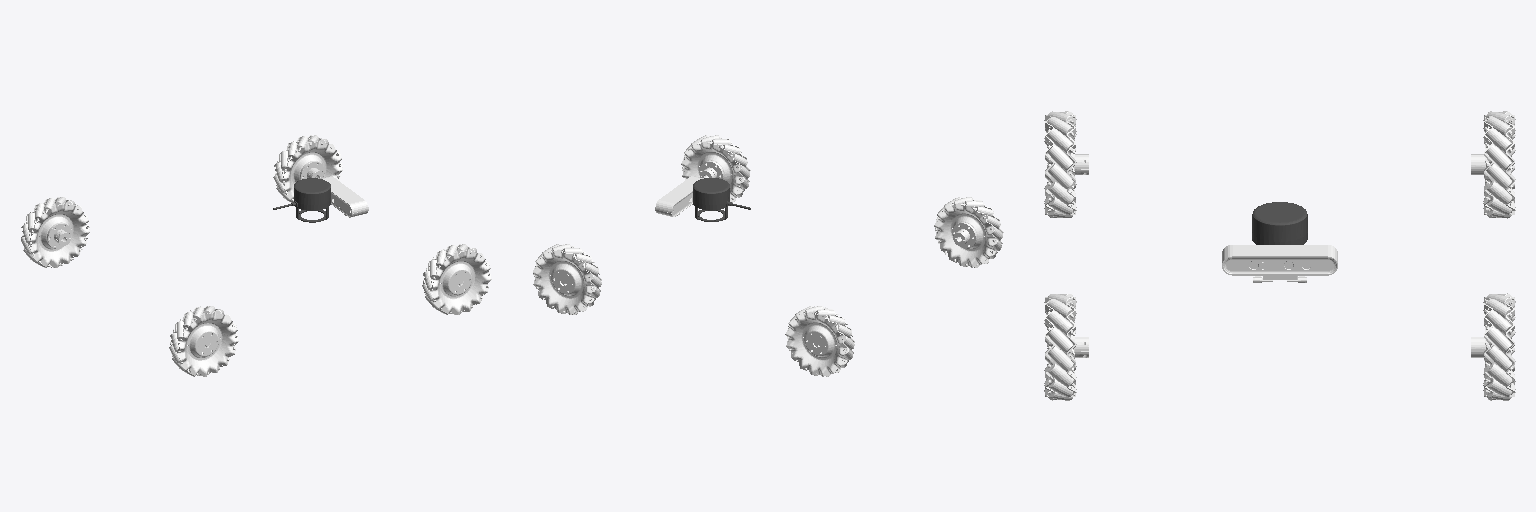
URDF robot description (top_mec_bs_robot):
<?xml version="1.0" encoding="utf-8"?>
<!-- This URDF was automatically created by SolidWorks to URDF Exporter! Originally created by [author] ([email redacted]) 
     Commit Version: 1.6.0-4-g7f85cfe  Build Version: 1.6.7995.38578
     For more information, please see http://wiki.ros.org/sw_urdf_exporter -->
<robot
  name="top_mec_bs_robot">
  <link
    name="base_link">
    <inertial>
      <origin
        xyz="-0.00264136115542805 -0.000478714215745704 0.0465081194028082"
        rpy="0 0 0" />
      <mass
        value="4.86878291717535" />
      <inertia
        ixx="0.037251697324237"
        ixy="-4.62534191163563E-05"
        ixz="2.55824100252923E-08"
        iyy="0.0356401227216898"
        iyz="-5.69404839174868E-07"
        izz="0.0712831173052379" />
    </inertial>
    <visual>
      <origin
        xyz="0 0 0"
        rpy="0 0 0" />
      <geometry>
        <mesh
          filename="package://wheeltec_robot_urdf/meshes/top_mec_bs_robot_meshes/base_link.STL" />
      </geometry>
      <material
        name="">
        <color
          rgba="0.741176470588235 0.901960784313726 0.956862745098039 1" />
      </material>
    </visual>
    <collision>
      <origin
        xyz="0 0 0"
        rpy="0 0 0" />
      <geometry>
        <mesh
          filename="package://wheeltec_robot_urdf/meshes/top_mec_bs_robot_meshes/base_link.STL" />
      </geometry>
    </collision>
  </link>
  <link
    name="lf_wheel_link">
    <inertial>
      <origin
        xyz="1.97034659690232E-05 -0.00238148433606722 -4.49547036794617E-06"
        rpy="0 0 0" />
      <mass
        value="0.241686926461965" />
      <inertia
        ixx="0.000456944123565094"
        ixy="-1.84200464171476E-07"
        ixz="1.62222920669159E-08"
        iyy="0.000867978794635428"
        iyz="2.50176401996288E-09"
        izz="0.000456349229369202" />
    </inertial>
    <visual>
      <origin
        xyz="0 0 0"
        rpy="0 0 0" />
      <geometry>
        <mesh
          filename="package://wheeltec_robot_urdf/meshes/top_mec_bs_robot_meshes/lf_wheel_link.STL" />
      </geometry>
      <material
        name="">
        <color
          rgba="1 1 1 1" />
      </material>
    </visual>
    <collision>
      <origin
        xyz="0 0 0"
        rpy="0 0 0" />
      <geometry>
        <mesh
          filename="package://wheeltec_robot_urdf/meshes/top_mec_bs_robot_meshes/lf_wheel_link.STL" />
      </geometry>
    </collision>
  </link>
  <joint
    name="lf_wheel_joint"
    type="continuous">
    <origin
      xyz="0.307993160645862 0.311475641802979 0.022506"
      rpy="0 0 0" />
    <parent
      link="base_link" />
    <child
      link="lf_wheel_link" />
    <axis
      xyz="0 -1 0" />
  </joint>
  <link
    name="lb_wheel_link">
    <inertial>
      <origin
        xyz="1.97034680050612E-05 -0.00238148433616886 -4.49547096865316E-06"
        rpy="0 0 0" />
      <mass
        value="0.241686926457917" />
      <inertia
        ixx="0.00045694412355823"
        ixy="-1.84200458610283E-07"
        ixz="1.62222964552424E-08"
        iyy="0.000867978794626423"
        iyz="2.50176671642074E-09"
        izz="0.000456349229364437" />
    </inertial>
    <visual>
      <origin
        xyz="0 0 0"
        rpy="0 0 0" />
      <geometry>
        <mesh
          filename="package://wheeltec_robot_urdf/meshes/top_mec_bs_robot_meshes/lb_wheel_link.STL" />
      </geometry>
      <material
        name="">
        <color
          rgba="1 1 1 1" />
      </material>
    </visual>
    <collision>
      <origin
        xyz="0 0 0"
        rpy="0 0 0" />
      <geometry>
        <mesh
          filename="package://wheeltec_robot_urdf/meshes/top_mec_bs_robot_meshes/lb_wheel_link.STL" />
      </geometry>
    </collision>
  </link>
  <joint
    name="lb_wheel_joint"
    type="continuous">
    <origin
      xyz="-0.304006839354138 0.311475641802977 0.022506"
      rpy="0 0 0" />
    <parent
      link="base_link" />
    <child
      link="lb_wheel_link" />
    <axis
      xyz="0 -1 0" />
  </joint>
  <link
    name="rb_wheel_link">
    <inertial>
      <origin
        xyz="-1.97034706787558E-05 0.00238148433583746 -4.49547036781434E-06"
        rpy="0 0 0" />
      <mass
        value="0.241686926461961" />
      <inertia
        ixx="0.000456944123565086"
        ixy="-1.84200460735969E-07"
        ixz="-1.62222920674726E-08"
        iyy="0.000867978794635423"
        iyz="-2.50176401974032E-09"
        izz="0.000456349229369198" />
    </inertial>
    <visual>
      <origin
        xyz="0 0 0"
        rpy="0 0 0" />
      <geometry>
        <mesh
          filename="package://wheeltec_robot_urdf/meshes/top_mec_bs_robot_meshes/rb_wheel_link.STL" />
      </geometry>
      <material
        name="">
        <color
          rgba="1 1 1 1" />
      </material>
    </visual>
    <collision>
      <origin
        xyz="0 0 0"
        rpy="0 0 0" />
      <geometry>
        <mesh
          filename="package://wheeltec_robot_urdf/meshes/top_mec_bs_robot_meshes/rb_wheel_link.STL" />
      </geometry>
    </collision>
  </link>
  <joint
    name="rb_wheel_joint"
    type="continuous">
    <origin
      xyz="-0.304006839354135 -0.311440358197023 0.022506"
      rpy="0 0 0" />
    <parent
      link="base_link" />
    <child
      link="rb_wheel_link" />
    <axis
      xyz="0 1 0" />
  </joint>
  <link
    name="rf_wheel_link">
    <inertial>
      <origin
        xyz="-1.97034681442831E-05 0.00238148433552604 -4.49547021818403E-06"
        rpy="0 0 0" />
      <mass
        value="0.241686926462972" />
      <inertia
        ixx="0.000456944123566789"
        ixy="-1.84200464683279E-07"
        ixz="-1.62222909852801E-08"
        iyy="0.000867978794637645"
        iyz="-2.50176336124332E-09"
        izz="0.000456349229370351" />
    </inertial>
    <visual>
      <origin
        xyz="0 0 0"
        rpy="0 0 0" />
      <geometry>
        <mesh
          filename="package://wheeltec_robot_urdf/meshes/top_mec_bs_robot_meshes/rf_wheel_link.STL" />
      </geometry>
      <material
        name="">
        <color
          rgba="1 1 1 1" />
      </material>
    </visual>
    <collision>
      <origin
        xyz="0 0 0"
        rpy="0 0 0" />
      <geometry>
        <mesh
          filename="package://wheeltec_robot_urdf/meshes/top_mec_bs_robot_meshes/rf_wheel_link.STL" />
      </geometry>
    </collision>
  </link>
  <joint
    name="rf_wheel_joint"
    type="continuous">
    <origin
      xyz="0.307993160645865 -0.311440358197021 0.022506"
      rpy="0 0 0" />
    <parent
      link="base_link" />
    <child
      link="rf_wheel_link" />
    <axis
      xyz="0 1 0" />
  </joint>
  <link
    name="laser_link">
    <inertial>
      <origin
        xyz="0.00196458631115937 -3.57895338318423E-06 -0.000201831632144329"
        rpy="0 0 0" />
      <mass
        value="0.0477519163695691" />
      <inertia
        ixx="3.38461999733358E-05"
        ixy="-2.1989701325991E-09"
        ixz="1.07118468706629E-06"
        iyy="3.94150415850317E-05"
        iyz="6.8397864259877E-10"
        izz="5.6078704209586E-05" />
    </inertial>
    <visual>
      <origin
        xyz="0 0 0"
        rpy="0 0 0" />
      <geometry>
        <mesh
          filename="package://wheeltec_robot_urdf/meshes/top_mec_bs_robot_meshes/laser.STL" />
      </geometry>
      <material
        name="">
        <color
          rgba="0.376470588235294 0.376470588235294 0.376470588235294 1" />
      </material>
    </visual>
    <collision>
      <origin
        xyz="0 0 0"
        rpy="0 0 0" />
      <geometry>
        <mesh
          filename="package://wheeltec_robot_urdf/meshes/top_mec_bs_robot_meshes/laser.STL" />
      </geometry>
    </collision>
  </link>
  <joint
    name="laser_joint"
    type="fixed">
    <origin
      xyz="0.138557024250412 1.7991757980874E-05 0.126524183741431"
      rpy="0 0 -3.14159265358979" />
    <parent
      link="base_link" />
    <child
      link="laser_link" />
    <axis
      xyz="0 0 0" />
  </joint>
  <link
    name="camera_link">
    <inertial>
      <origin
        xyz="-4.4690477610243E-07 -3.53613893195584E-07 1.07624234465392E-07"
        rpy="0 0 0" />
      <mass
        value="0.055984251208029" />
      <inertia
        ixx="0.000130810959339212"
        ixy="1.20255128208263E-07"
        ixz="1.62335437080019E-06"
        iyy="1.91148634967938E-05"
        iyz="-2.80016755798322E-08"
        izz="0.00013138746952303" />
    </inertial>
    <visual>
      <origin
        xyz="0 0 0"
        rpy="0 0 0" />
      <geometry>
        <mesh
          filename="package://wheeltec_robot_urdf/meshes/top_mec_bs_robot_meshes/camera_link.STL" />
      </geometry>
      <material
        name="">
        <color
          rgba="1 1 1 1" />
      </material>
    </visual>
    <collision>
      <origin
        xyz="0 0 0"
        rpy="0 0 0" />
      <geometry>
        <mesh
          filename="package://wheeltec_robot_urdf/meshes/top_mec_bs_robot_meshes/camera_link.STL" />
      </geometry>
    </collision>
  </link>
  <joint
    name="camera_joint"
    type="fixed">
    <origin
      xyz="0.208902160645864 0.000245641802979065 0.108204"
      rpy="0 0 0" />
    <parent
      link="base_link" />
    <child
      link="camera_link" />
    <axis
      xyz="0 0 0" />
  </joint>
  <link
    name="controller_link">
    <inertial>
      <origin
        xyz="-0.049710340054785 0.0175133932690655 0.00856001464881972"
        rpy="0 0 0" />
      <mass
        value="0.00107921954114688" />
      <inertia
        ixx="1.1633010999567E-08"
        ixy="-3.94092662514923E-09"
        ixz="3.6921298272065E-10"
        iyy="2.26830021861902E-07"
        iyz="5.23015112125968E-10"
        izz="2.25657044103404E-07" />
    </inertial>
    <visual>
      <origin
        xyz="0 0 0"
        rpy="0 0 0" />
      <geometry>
        <mesh
          filename="package://wheeltec_robot_urdf/meshes/top_mec_bs_robot_meshes/controller_link.STL" />
      </geometry>
      <material
        name="">
        <color
          rgba="0.741176470588235 0.901960784313726 0.956862745098039 1" />
      </material>
    </visual>
    <collision>
      <origin
        xyz="0 0 0"
        rpy="0 0 0" />
      <geometry>
        <mesh
          filename="package://wheeltec_robot_urdf/meshes/top_mec_bs_robot_meshes/controller_link.STL" />
      </geometry>
    </collision>
  </link>
  <joint
    name="controller_joint"
    type="fixed">
    <origin
      xyz="0.101379911991696 0.0620176418028593 0.00150000000000075"
      rpy="0 0 0" />
    <parent
      link="base_link" />
    <child
      link="controller_link" />
    <axis
      xyz="0 0 0" />
  </joint>
</robot>

--- What the picture shows (computed from the rendered views, not written in the file) ---
The picture shows the robot from 3 angles, left to right: view 1: azimuth 30°, elevation 25°; view 2: azimuth 150°, elevation 25°; view 3: azimuth 270°, elevation 25°; orthographic projection.
Model top_mec_bs_robot with 8 links and 7 joints (4 continuous, 3 fixed), rooted at base_link, posed all joints at 0.
Visible links, largest first — view 1: rb_wheel_link, lb_wheel_link, rf_wheel_link, lf_wheel_link, laser_link, camera_link; view 2: lb_wheel_link, lf_wheel_link, rb_wheel_link, rf_wheel_link, laser_link, camera_link; view 3: camera_link, lf_wheel_link, lb_wheel_link, rf_wheel_link, rb_wheel_link, laser_link.
Boxes of the visible links, x1,y1,x2,y2 form: rb_wheel_link: (169,306,238,376); lb_wheel_link: (21,197,89,267); rf_wheel_link: (422,244,491,314); lf_wheel_link: (273,135,342,202); laser_link: (273,178,330,222); camera_link: (321,176,368,217); lb_wheel_link: (785,306,854,376); lf_wheel_link: (533,244,601,314); rb_wheel_link: (934,197,1003,267); rf_wheel_link: (681,135,750,202); laser_link: (693,178,750,221); camera_link: (655,176,703,216); camera_link: (1222,245,1337,282); lf_wheel_link: (1471,293,1515,400); lb_wheel_link: (1471,111,1515,218); rf_wheel_link: (1044,294,1088,400); rb_wheel_link: (1044,111,1088,217); laser_link: (1252,202,1307,244).
Size in the robot's own frame: 0.7642 by 0.6689 by 0.208 metres.
6 mesh visuals loaded from 8 distinct referenced files (6 binary STL); not drawn: 2 (reference not matched to a file when rendering).